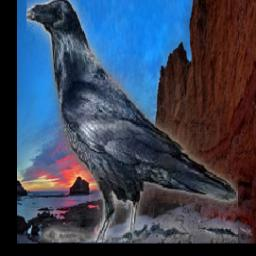Crow: (26, 0, 238, 244)
